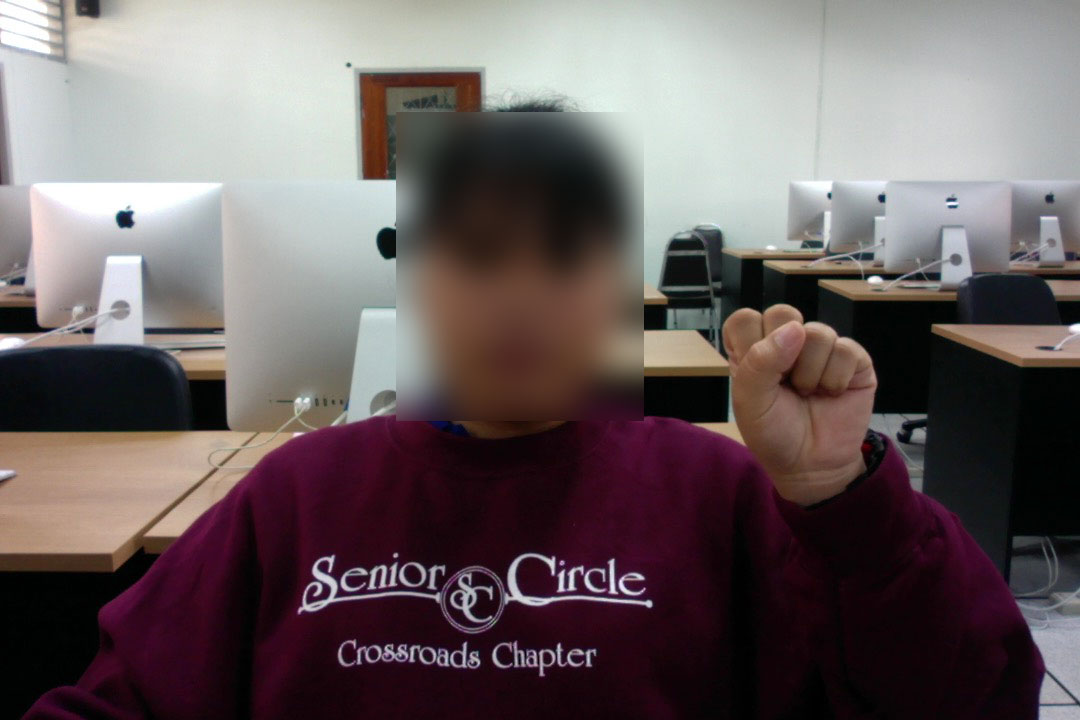sor: (714, 296, 882, 492)
